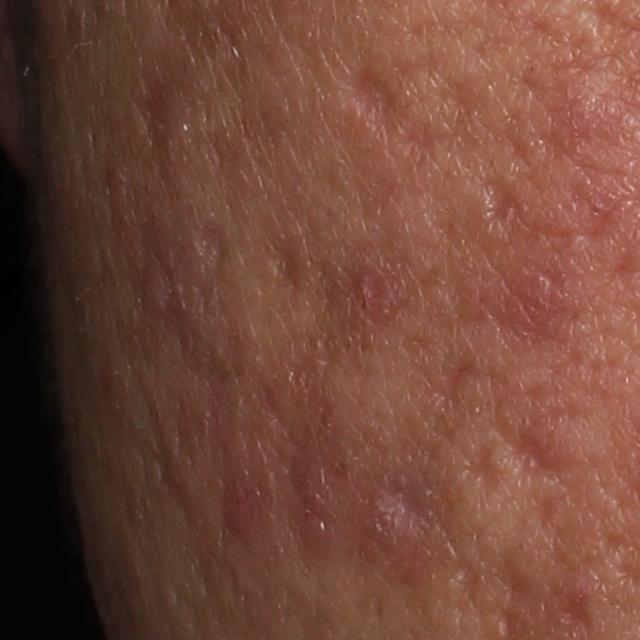atrophic_scar: (488, 411, 589, 480), (402, 338, 482, 423), (339, 57, 409, 148), (127, 78, 182, 175), (375, 472, 445, 541), (251, 226, 304, 308), (459, 436, 512, 497), (480, 175, 526, 237), (195, 217, 235, 272)
papule: (211, 472, 257, 539)
